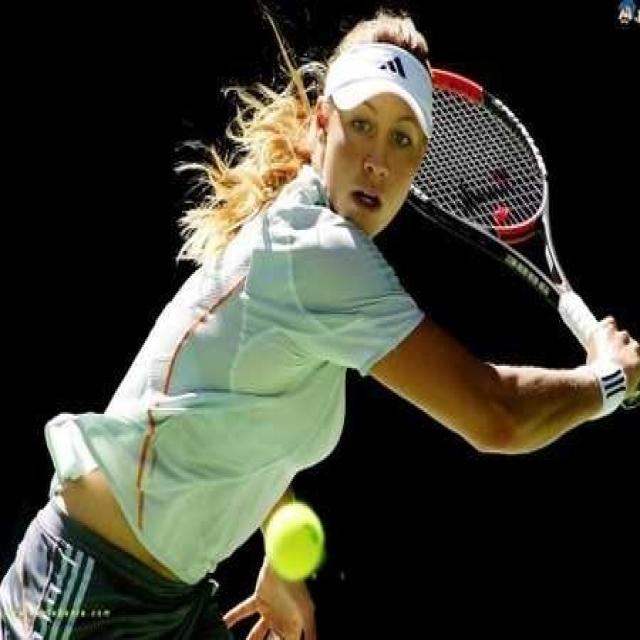Tennis_Ball: (266, 501, 324, 584)
